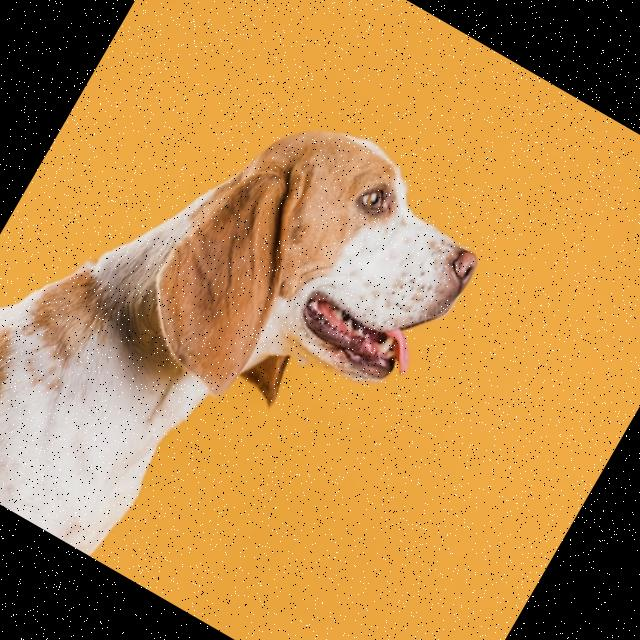Dog: (0, 4, 504, 640)
